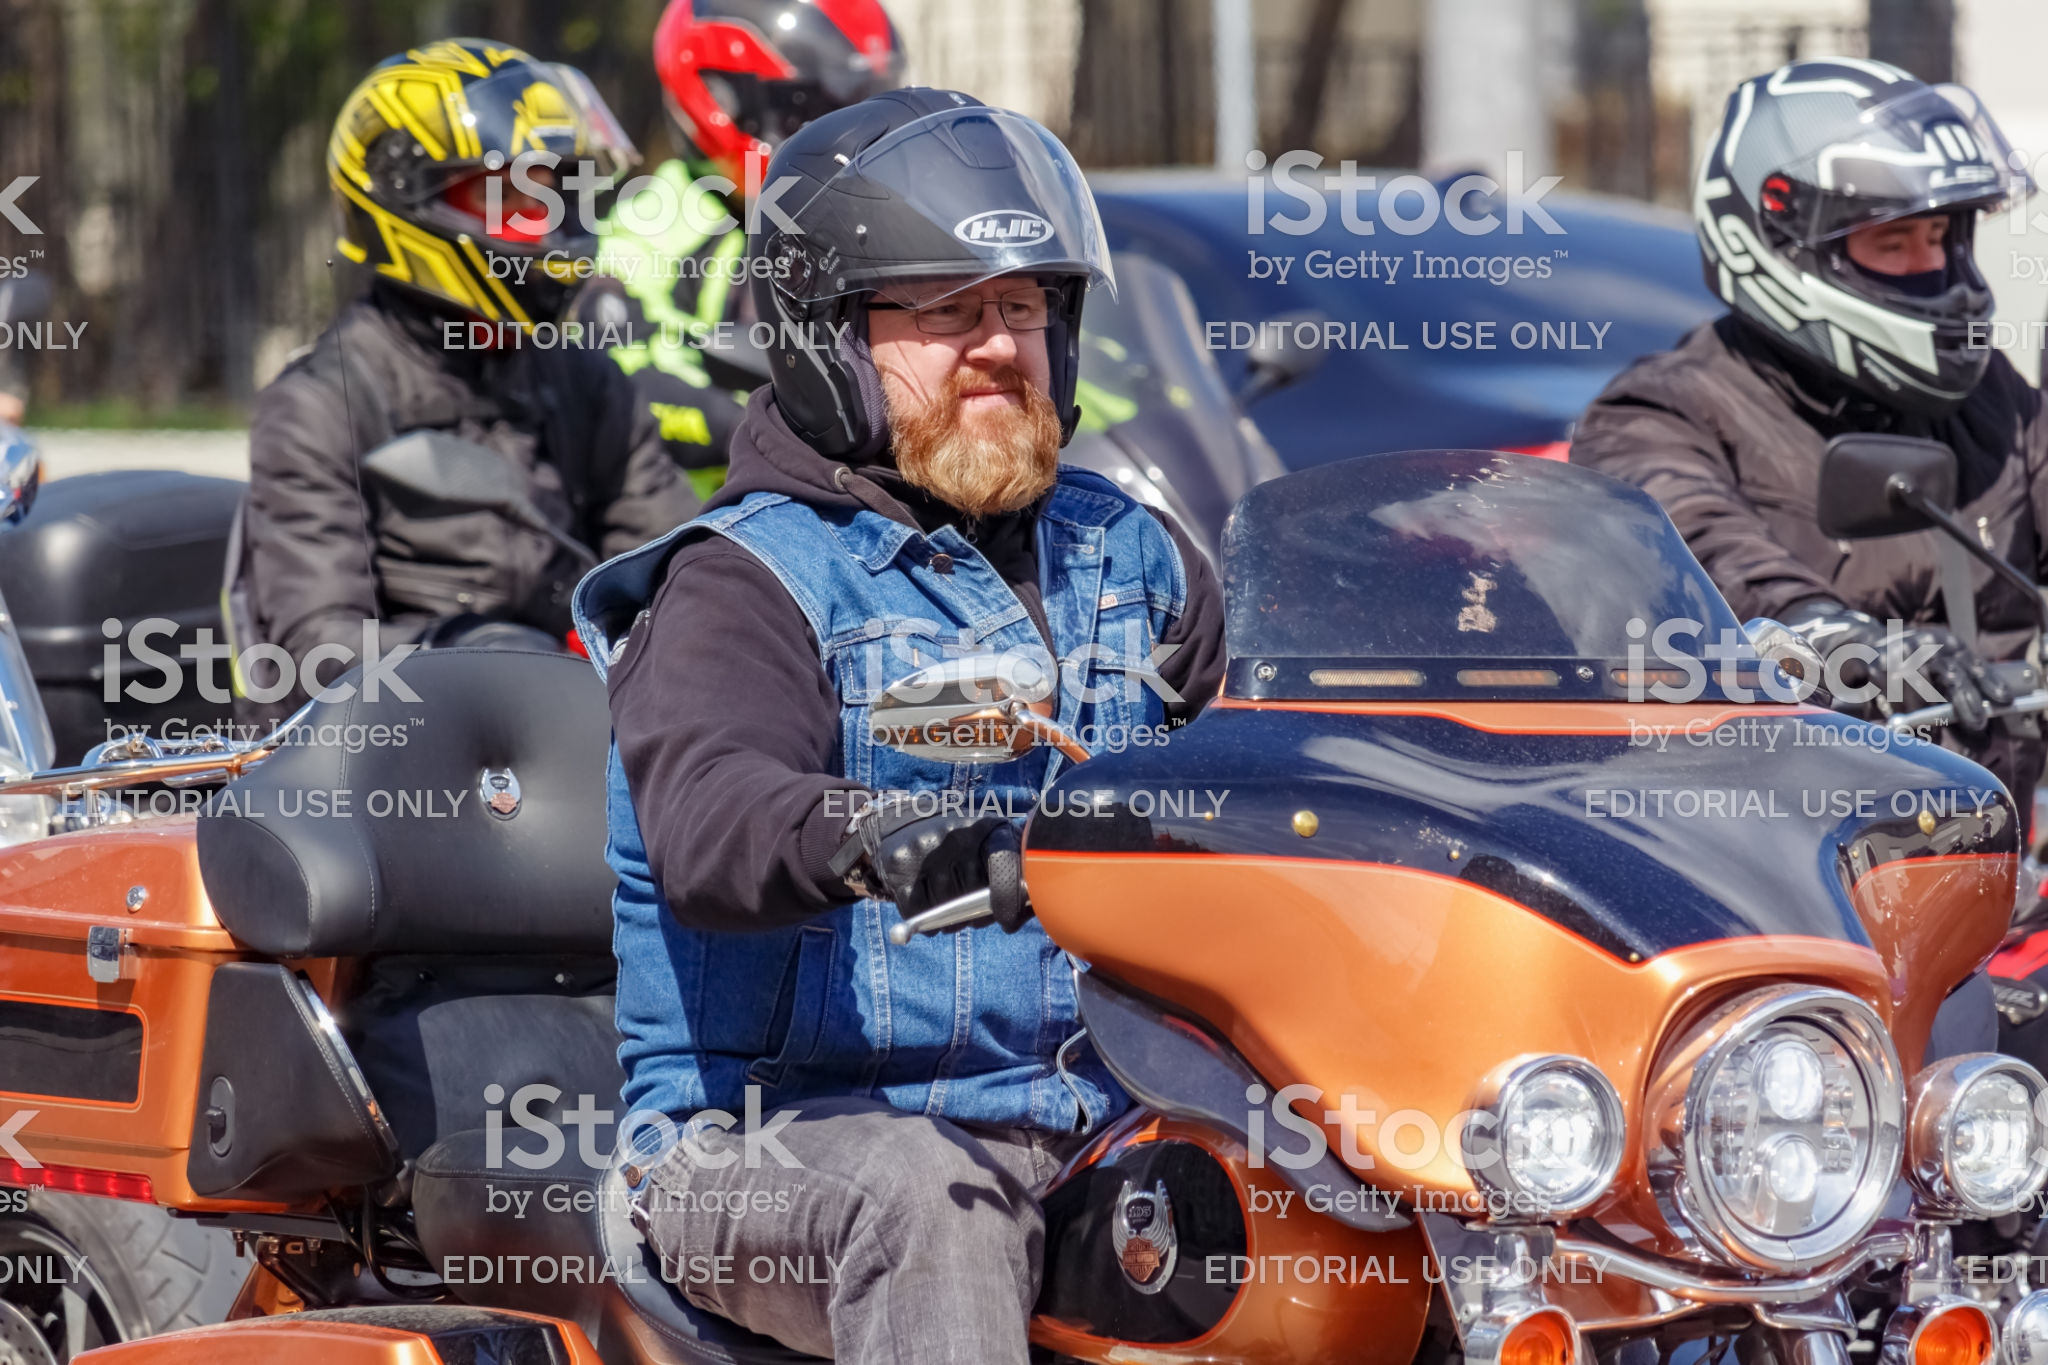helmet: (691, 108, 1159, 424), (1695, 61, 2021, 372), (337, 52, 615, 341)
